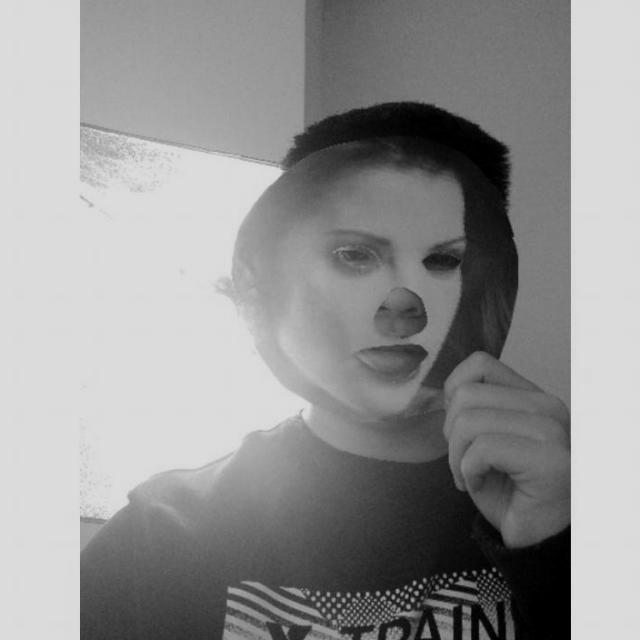fake: (226, 132, 524, 424)
